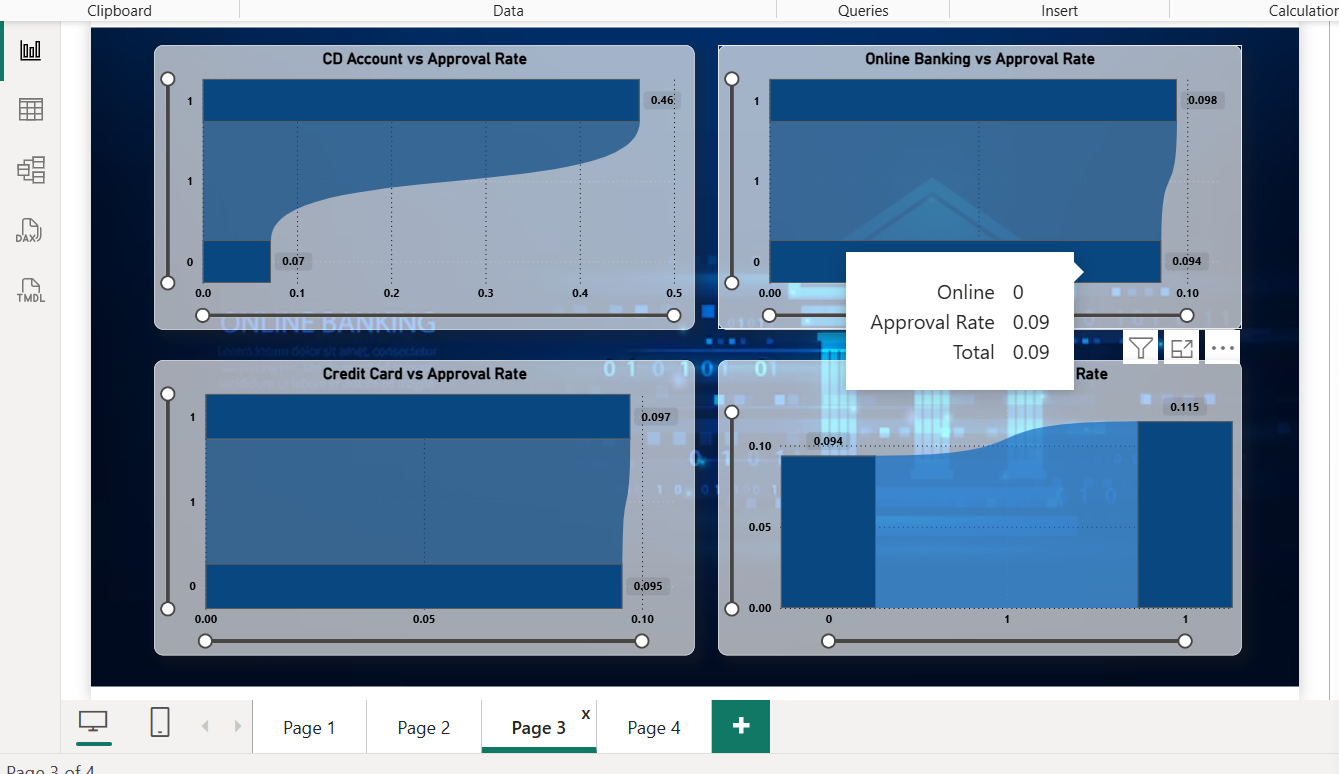

The dashboard page shown, as its layout file describes it:
{"tool":"powerbi","page":{"name":"Page 3","canvas":[1280,720],"ordinal":2},"visuals":[{"type":"barChart","title":"CD Account vs Approval Rate","fields":{"Y":["Data.Approval Rate"],"Category":["Data.CD Account"]},"box":[66.7,25,573.3,301.7],"z":0},{"type":"barChart","title":"Credit Card vs Approval Rate","fields":{"Y":["Data.Approval Rate"],"Category":["Data.CreditCard"]},"box":[66.7,360,573.3,313.3],"z":1000},{"type":"barChart","title":"Online Banking vs Approval Rate","fields":{"Y":["Data.Approval Rate"],"Category":["Data.Online"]},"box":[665,25,555,301.7],"z":2000},{"type":"columnChart","title":"Securities Account vs Approval Rate","fields":{"Y":["Data.Approval Rate"],"Category":["Data.Securities Account"]},"box":[665,360,555,313.3],"z":3000}]}

Visuals, with their boxes on the page's 1280x720 design canvas (x1, y1, x2, y2). These are canvas units, not pixel positions in the 1339x774 screenshot, which may show the page scaled, cropped or inside an application window:
"CD Account vs Approval Rate" barChart: rect(67, 25, 640, 327)
"Credit Card vs Approval Rate" barChart: rect(67, 360, 640, 673)
"Online Banking vs Approval Rate" barChart: rect(665, 25, 1220, 327)
"Securities Account vs Approval Rate" columnChart: rect(665, 360, 1220, 673)
